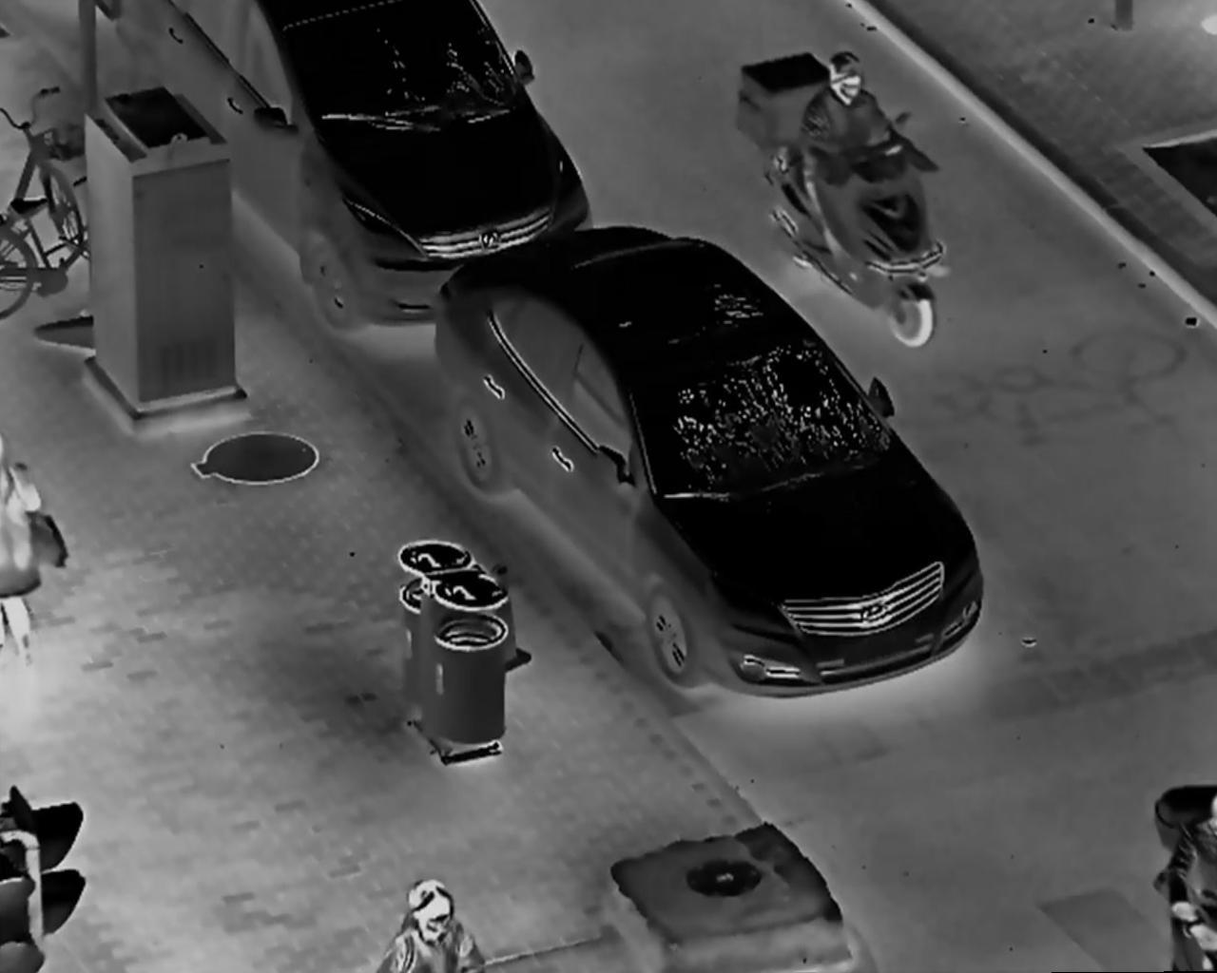person: (801, 45, 912, 265), (374, 875, 483, 973), (1165, 787, 1217, 963)
